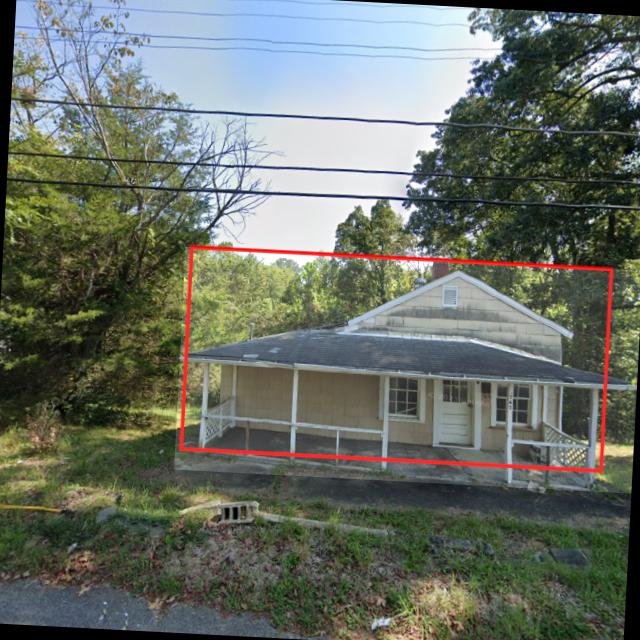House: (174, 246, 640, 493)
